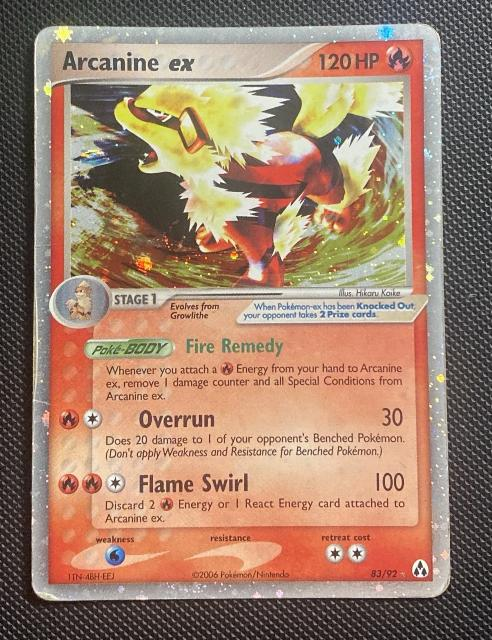Card: (28, 19, 457, 608)
Name: (59, 48, 201, 79)
